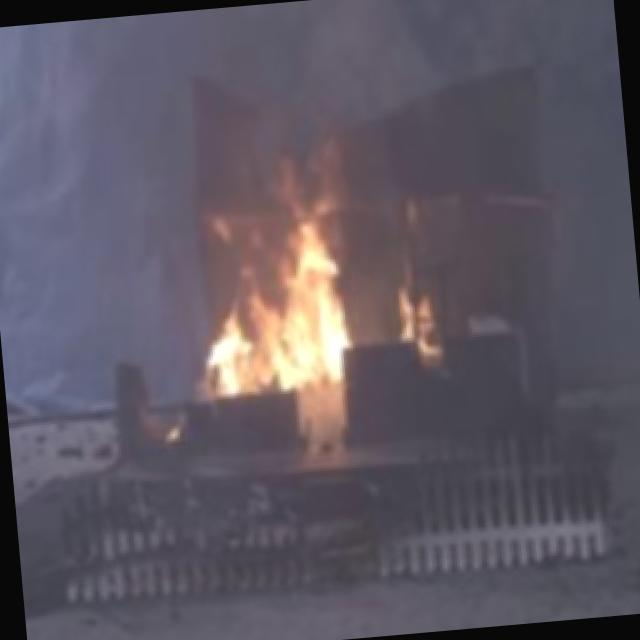fire: (196, 150, 379, 410)
